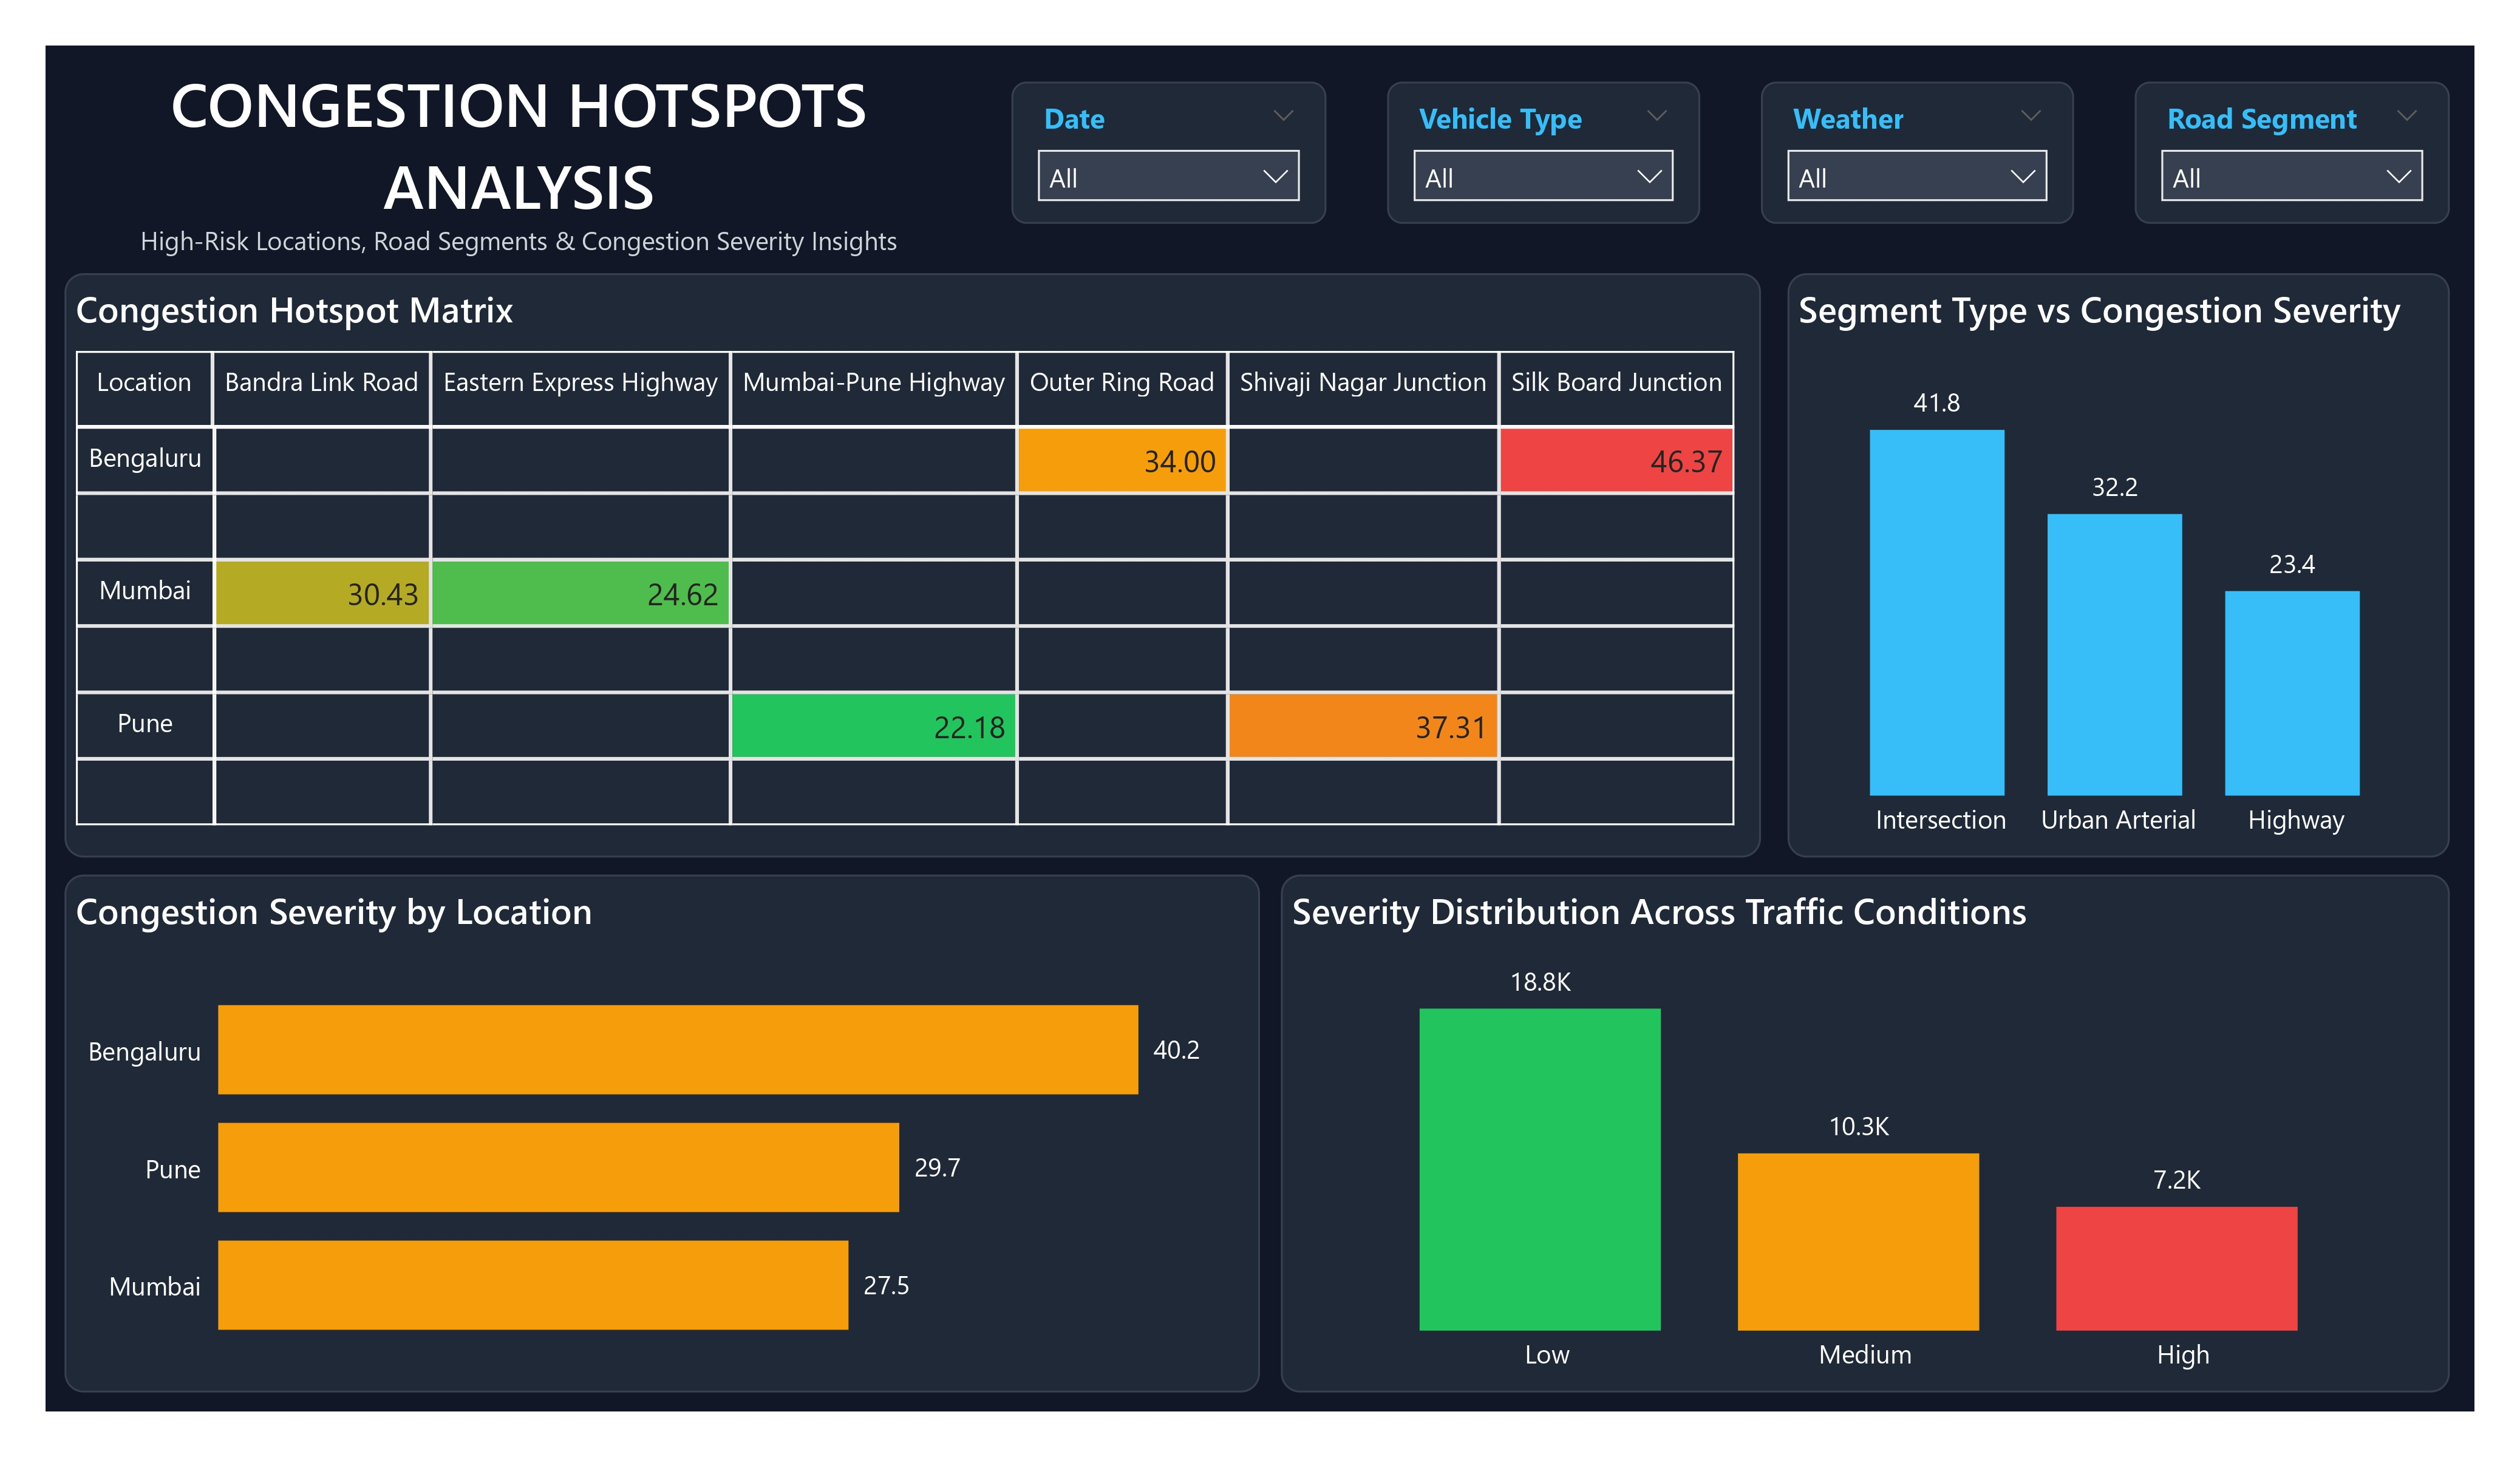

The page's visual inventory and layout, read from the dashboard file:
{"tool":"powerbi","page":{"name":"Hotspots","canvas":[1280,720],"ordinal":2},"visuals":[{"type":"textbox","box":[0,2.5,499,133.7],"z":0},{"type":"slicer","fields":{"Values":["Traffic_Data.Date"]},"box":[509.2,19.1,165.5,75.1],"z":1000},{"type":"slicer","fields":{"Values":["Traffic_Data.Vehicle_Type"]},"box":[706.7,19.1,165.5,75],"z":2000},{"type":"slicer","fields":{"Values":["Traffic_Data.Weather"]},"box":[904.2,19.1,165,75],"z":3000},{"type":"slicer","fields":{"Values":["Traffic_Data.Road_Segment"]},"box":[1101.2,19.1,165.5,75],"z":4000},{"type":"pivotTable","title":"Congestion Hotspot Matrix","fields":{"Rows":["Traffic_Data.Location"],"Columns":["Traffic_Data.Road_Segment"],"Values":["Avg(Traffic_Data.Severity_Score)"]},"box":[10.2,119.7,893.7,308.1],"z":5000},{"type":"clusteredBarChart","title":"Congestion Severity by Location","fields":{"Category":["Traffic_Data.Location"],"Y":["Avg(Traffic_Data.Severity_Score)"]},"box":[10.2,436.7,630.2,273.7],"z":6000},{"type":"clusteredColumnChart","title":"Segment Type vs Congestion Severity","fields":{"Category":["Traffic_Data.Segment_Type"],"Y":["Avg(Traffic_Data.Severity_Score)"]},"box":[917.9,119.7,348.8,308.1],"z":7000},{"type":"columnChart","title":"Severity Distribution Across Traffic Conditions","fields":{"Category":["Traffic_Data.Congestion_Level"],"Y":["CountNonNull(Traffic_Data.id)"]},"box":[650.5,436.7,616.1,273.7],"z":8000}]}

Visuals, with their boxes on the page's 1280x720 design canvas (x1, y1, x2, y2). These are canvas units, not pixel positions in the 2520x1457 screenshot, which may show the page scaled, cropped or inside an application window:
textbox: x1=0 y1=2 x2=499 y2=136
slicer - Traffic_Data.Date: x1=509 y1=19 x2=675 y2=94
slicer - Traffic_Data.Vehicle_Type: x1=707 y1=19 x2=872 y2=94
slicer - Traffic_Data.Weather: x1=904 y1=19 x2=1069 y2=94
slicer - Traffic_Data.Road_Segment: x1=1101 y1=19 x2=1267 y2=94
"Congestion Hotspot Matrix" pivotTable: x1=10 y1=120 x2=904 y2=428
"Congestion Severity by Location" clusteredBarChart: x1=10 y1=437 x2=640 y2=710
"Segment Type vs Congestion Severity" clusteredColumnChart: x1=918 y1=120 x2=1267 y2=428
"Severity Distribution Across Traffic Conditions" columnChart: x1=650 y1=437 x2=1267 y2=710
